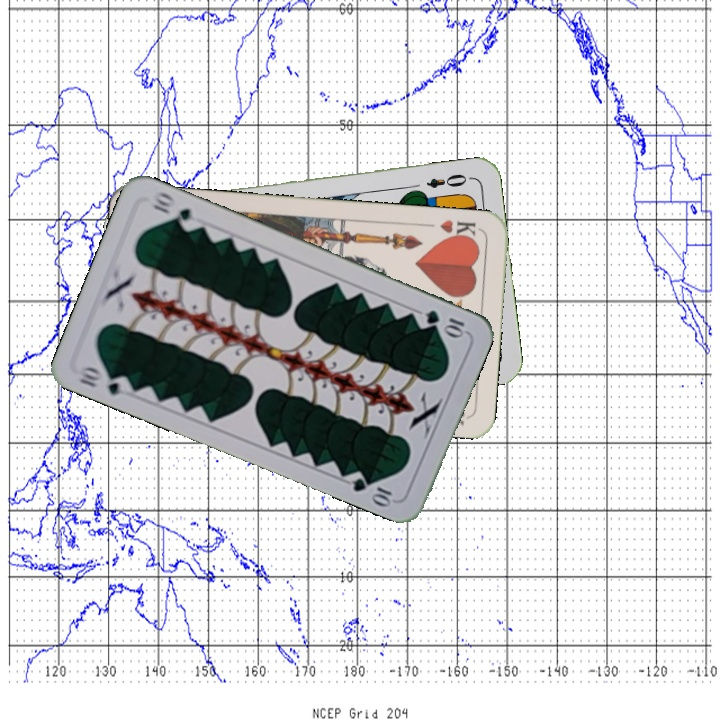EO: (422, 169, 474, 191)
G10: (74, 362, 134, 398), (421, 305, 468, 339)
HK: (436, 215, 483, 244)
